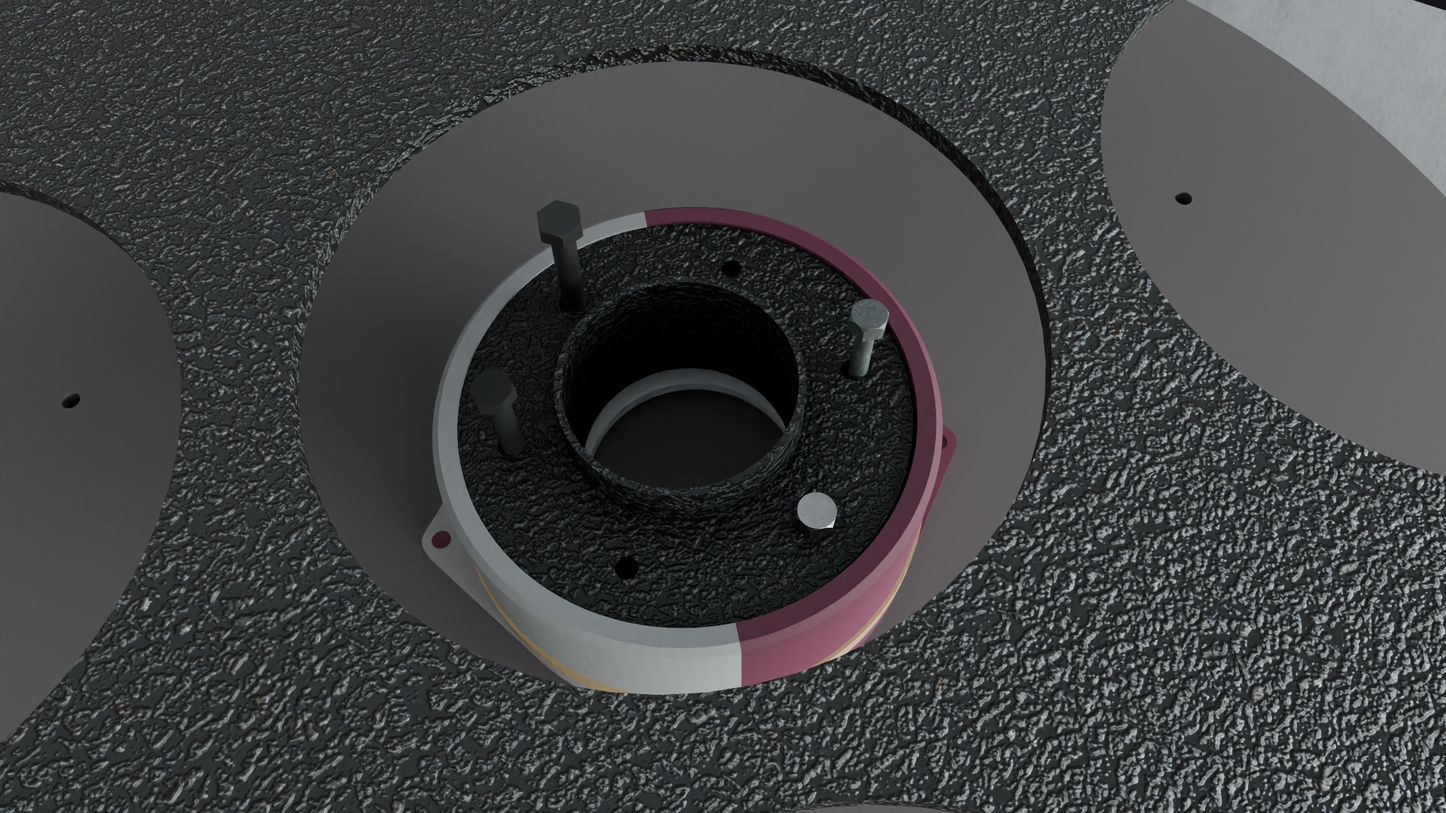bolt: (468, 370, 515, 407), (795, 492, 838, 532), (537, 200, 581, 239), (849, 299, 889, 333)
